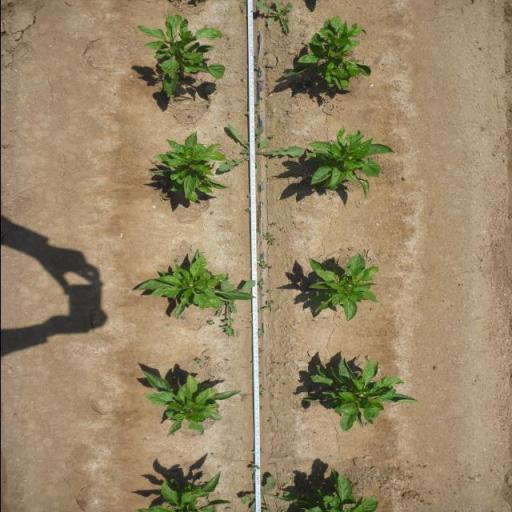plant: (302, 355, 421, 432), (132, 247, 255, 321), (134, 12, 227, 96), (140, 369, 240, 437), (306, 125, 396, 200), (288, 15, 373, 92), (147, 130, 228, 202), (304, 252, 382, 323), (134, 468, 232, 512), (296, 462, 380, 512)
weed: (225, 122, 305, 175), (239, 472, 297, 512), (212, 297, 255, 342), (254, 0, 294, 36), (218, 278, 256, 297), (261, 232, 277, 246), (257, 300, 274, 313), (246, 101, 259, 115), (256, 260, 272, 270), (253, 52, 259, 70), (259, 385, 266, 398), (250, 462, 259, 472), (250, 448, 264, 454), (240, 394, 248, 403), (257, 328, 263, 339), (206, 319, 215, 326), (256, 280, 266, 286), (193, 357, 201, 364), (258, 347, 264, 356), (268, 221, 276, 227), (204, 356, 211, 362), (258, 405, 264, 412), (267, 417, 273, 423), (239, 4, 244, 10), (209, 210, 214, 216), (206, 102, 212, 107), (268, 134, 275, 138), (243, 0, 247, 6), (258, 372, 262, 378), (180, 316, 186, 320), (246, 193, 250, 198), (246, 207, 250, 212), (165, 323, 170, 327), (272, 362, 282, 364), (256, 288, 262, 291), (240, 77, 244, 81), (266, 290, 274, 292), (198, 366, 202, 368), (266, 164, 268, 167), (247, 318, 250, 320), (239, 316, 242, 318), (244, 327, 250, 328), (276, 398, 279, 400), (266, 50, 268, 52)
